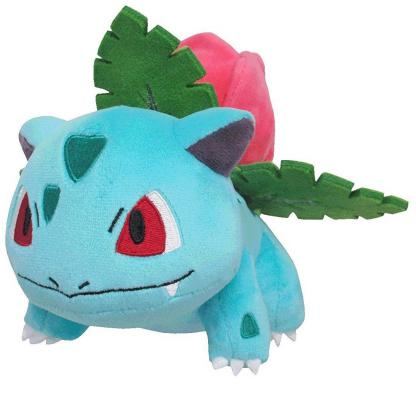Ivysaur: (1, 9, 416, 384)
